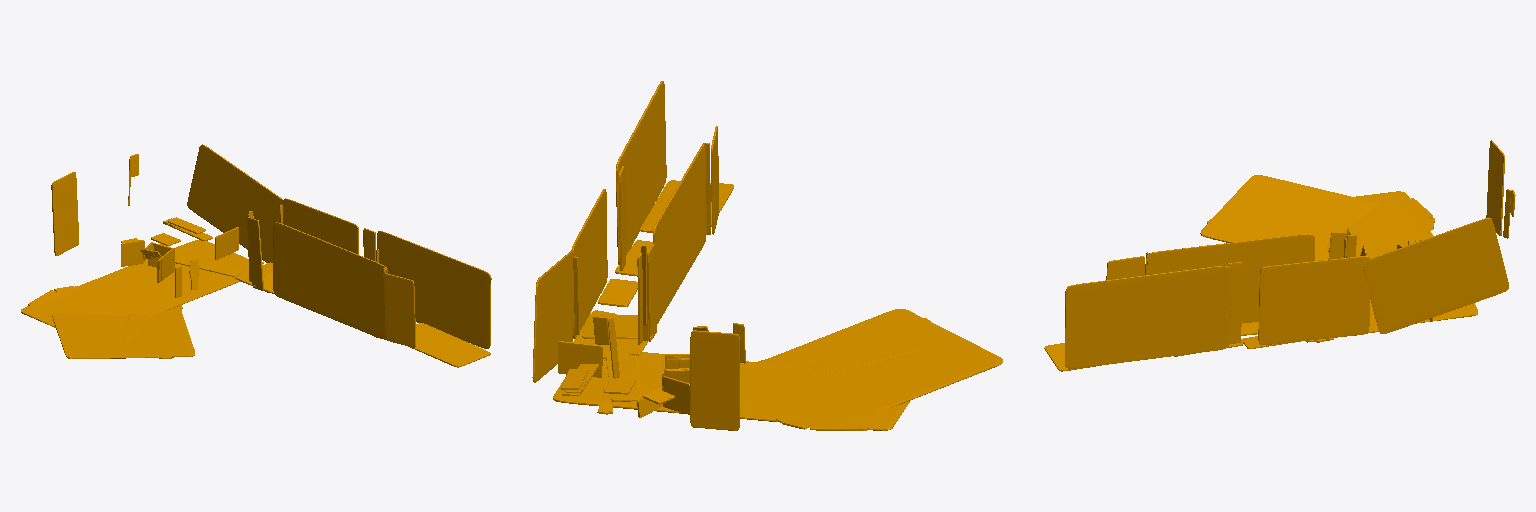
The robot description file, URDF, robot "scene":
<?xml version='1.0' encoding='utf-8'?>
<robot name="scene"><link name="scene_link"><visual><origin xyz="0.000000 0.000000 0.000000" rpy="0.000000 -0.000000 0.000000" /><geometry><mesh filename="part_000.obj" /></geometry></visual><collision><origin xyz="0.000000 0.000000 0.000000" rpy="0.000000 -0.000000 0.000000" /><geometry><mesh filename="part_000.obj" /></geometry></collision><visual><origin xyz="0.000000 0.000000 0.000000" rpy="0.000000 -0.000000 0.000000" /><geometry><mesh filename="part_001.obj" /></geometry></visual><collision><origin xyz="0.000000 0.000000 0.000000" rpy="0.000000 -0.000000 0.000000" /><geometry><mesh filename="part_001.obj" /></geometry></collision><visual><origin xyz="0.000000 0.000000 0.000000" rpy="0.000000 -0.000000 0.000000" /><geometry><mesh filename="part_002.obj" /></geometry></visual><collision><origin xyz="0.000000 0.000000 0.000000" rpy="0.000000 -0.000000 0.000000" /><geometry><mesh filename="part_002.obj" /></geometry></collision><visual><origin xyz="0.000000 0.000000 0.000000" rpy="0.000000 -0.000000 0.000000" /><geometry><mesh filename="part_003.obj" /></geometry></visual><collision><origin xyz="0.000000 0.000000 0.000000" rpy="0.000000 -0.000000 0.000000" /><geometry><mesh filename="part_003.obj" /></geometry></collision><visual><origin xyz="0.000000 0.000000 0.000000" rpy="0.000000 -0.000000 0.000000" /><geometry><mesh filename="part_004.obj" /></geometry></visual><collision><origin xyz="0.000000 0.000000 0.000000" rpy="0.000000 -0.000000 0.000000" /><geometry><mesh filename="part_004.obj" /></geometry></collision><visual><origin xyz="0.000000 0.000000 0.000000" rpy="0.000000 -0.000000 0.000000" /><geometry><mesh filename="part_005.obj" /></geometry></visual><collision><origin xyz="0.000000 0.000000 0.000000" rpy="0.000000 -0.000000 0.000000" /><geometry><mesh filename="part_005.obj" /></geometry></collision><visual><origin xyz="0.000000 0.000000 0.000000" rpy="0.000000 -0.000000 0.000000" /><geometry><mesh filename="part_006.obj" /></geometry></visual><collision><origin xyz="0.000000 0.000000 0.000000" rpy="0.000000 -0.000000 0.000000" /><geometry><mesh filename="part_006.obj" /></geometry></collision><visual><origin xyz="0.000000 0.000000 0.000000" rpy="0.000000 -0.000000 0.000000" /><geometry><mesh filename="part_007.obj" /></geometry></visual><collision><origin xyz="0.000000 0.000000 0.000000" rpy="0.000000 -0.000000 0.000000" /><geometry><mesh filename="part_007.obj" /></geometry></collision><visual><origin xyz="0.000000 0.000000 0.000000" rpy="0.000000 -0.000000 0.000000" /><geometry><mesh filename="part_008.obj" /></geometry></visual><collision><origin xyz="0.000000 0.000000 0.000000" rpy="0.000000 -0.000000 0.000000" /><geometry><mesh filename="part_008.obj" /></geometry></collision><visual><origin xyz="0.000000 0.000000 0.000000" rpy="0.000000 -0.000000 0.000000" /><geometry><mesh filename="part_009.obj" /></geometry></visual><collision><origin xyz="0.000000 0.000000 0.000000" rpy="0.000000 -0.000000 0.000000" /><geometry><mesh filename="part_009.obj" /></geometry></collision><visual><origin xyz="0.000000 0.000000 0.000000" rpy="0.000000 -0.000000 0.000000" /><geometry><mesh filename="part_010.obj" /></geometry></visual><collision><origin xyz="0.000000 0.000000 0.000000" rpy="0.000000 -0.000000 0.000000" /><geometry><mesh filename="part_010.obj" /></geometry></collision><visual><origin xyz="0.000000 0.000000 0.000000" rpy="0.000000 -0.000000 0.000000" /><geometry><mesh filename="part_011.obj" /></geometry></visual><collision><origin xyz="0.000000 0.000000 0.000000" rpy="0.000000 -0.000000 0.000000" /><geometry><mesh filename="part_011.obj" /></geometry></collision><visual><origin xyz="0.000000 0.000000 0.000000" rpy="0.000000 -0.000000 0.000000" /><geometry><mesh filename="part_012.obj" /></geometry></visual><collision><origin xyz="0.000000 0.000000 0.000000" rpy="0.000000 -0.000000 0.000000" /><geometry><mesh filename="part_012.obj" /></geometry></collision><visual><origin xyz="0.000000 0.000000 0.000000" rpy="0.000000 -0.000000 0.000000" /><geometry><mesh filename="part_013.obj" /></geometry></visual><collision><origin xyz="0.000000 0.000000 0.000000" rpy="0.000000 -0.000000 0.000000" /><geometry><mesh filename="part_013.obj" /></geometry></collision><visual><origin xyz="0.000000 0.000000 0.000000" rpy="0.000000 -0.000000 0.000000" /><geometry><mesh filename="part_014.obj" /></geometry></visual><collision><origin xyz="0.000000 0.000000 0.000000" rpy="0.000000 -0.000000 0.000000" /><geometry><mesh filename="part_014.obj" /></geometry></collision><visual><origin xyz="0.000000 0.000000 0.000000" rpy="0.000000 -0.000000 0.000000" /><geometry><mesh filename="part_015.obj" /></geometry></visual><collision><origin xyz="0.000000 0.000000 0.000000" rpy="0.000000 -0.000000 0.000000" /><geometry><mesh filename="part_015.obj" /></geometry></collision><visual><origin xyz="0.000000 0.000000 0.000000" rpy="0.000000 -0.000000 0.000000" /><geometry><mesh filename="part_016.obj" /></geometry></visual><collision><origin xyz="0.000000 0.000000 0.000000" rpy="0.000000 -0.000000 0.000000" /><geometry><mesh filename="part_016.obj" /></geometry></collision><visual><origin xyz="0.000000 0.000000 0.000000" rpy="0.000000 -0.000000 0.000000" /><geometry><mesh filename="part_017.obj" /></geometry></visual><collision><origin xyz="0.000000 0.000000 0.000000" rpy="0.000000 -0.000000 0.000000" /><geometry><mesh filename="part_017.obj" /></geometry></collision><visual><origin xyz="0.000000 0.000000 0.000000" rpy="0.000000 -0.000000 0.000000" /><geometry><mesh filename="part_018.obj" /></geometry></visual><collision><origin xyz="0.000000 0.000000 0.000000" rpy="0.000000 -0.000000 0.000000" /><geometry><mesh filename="part_018.obj" /></geometry></collision><visual><origin xyz="0.000000 0.000000 0.000000" rpy="0.000000 -0.000000 0.000000" /><geometry><mesh filename="part_019.obj" /></geometry></visual><collision><origin xyz="0.000000 0.000000 0.000000" rpy="0.000000 -0.000000 0.000000" /><geometry><mesh filename="part_019.obj" /></geometry></collision><visual><origin xyz="0.000000 0.000000 0.000000" rpy="0.000000 -0.000000 0.000000" /><geometry><mesh filename="part_020.obj" /></geometry></visual><collision><origin xyz="0.000000 0.000000 0.000000" rpy="0.000000 -0.000000 0.000000" /><geometry><mesh filename="part_020.obj" /></geometry></collision><visual><origin xyz="0.000000 0.000000 0.000000" rpy="0.000000 -0.000000 0.000000" /><geometry><mesh filename="part_021.obj" /></geometry></visual><collision><origin xyz="0.000000 0.000000 0.000000" rpy="0.000000 -0.000000 0.000000" /><geometry><mesh filename="part_021.obj" /></geometry></collision><visual><origin xyz="0.000000 0.000000 0.000000" rpy="0.000000 -0.000000 0.000000" /><geometry><mesh filename="part_022.obj" /></geometry></visual><collision><origin xyz="0.000000 0.000000 0.000000" rpy="0.000000 -0.000000 0.000000" /><geometry><mesh filename="part_022.obj" /></geometry></collision><visual><origin xyz="0.000000 0.000000 0.000000" rpy="0.000000 -0.000000 0.000000" /><geometry><mesh filename="part_023.obj" /></geometry></visual><collision><origin xyz="0.000000 0.000000 0.000000" rpy="0.000000 -0.000000 0.000000" /><geometry><mesh filename="part_023.obj" /></geometry></collision><visual><origin xyz="0.000000 0.000000 0.000000" rpy="0.000000 -0.000000 0.000000" /><geometry><mesh filename="part_024.obj" /></geometry></visual><collision><origin xyz="0.000000 0.000000 0.000000" rpy="0.000000 -0.000000 0.000000" /><geometry><mesh filename="part_024.obj" /></geometry></collision><visual><origin xyz="0.000000 0.000000 0.000000" rpy="0.000000 -0.000000 0.000000" /><geometry><mesh filename="part_025.obj" /></geometry></visual><collision><origin xyz="0.000000 0.000000 0.000000" rpy="0.000000 -0.000000 0.000000" /><geometry><mesh filename="part_025.obj" /></geometry></collision><visual><origin xyz="0.000000 0.000000 0.000000" rpy="0.000000 -0.000000 0.000000" /><geometry><mesh filename="part_026.obj" /></geometry></visual><collision><origin xyz="0.000000 0.000000 0.000000" rpy="0.000000 -0.000000 0.000000" /><geometry><mesh filename="part_026.obj" /></geometry></collision><visual><origin xyz="0.000000 0.000000 0.000000" rpy="0.000000 -0.000000 0.000000" /><geometry><mesh filename="part_027.obj" /></geometry></visual><collision><origin xyz="0.000000 0.000000 0.000000" rpy="0.000000 -0.000000 0.000000" /><geometry><mesh filename="part_027.obj" /></geometry></collision><visual><origin xyz="0.000000 0.000000 0.000000" rpy="0.000000 -0.000000 0.000000" /><geometry><mesh filename="part_028.obj" /></geometry></visual><collision><origin xyz="0.000000 0.000000 0.000000" rpy="0.000000 -0.000000 0.000000" /><geometry><mesh filename="part_028.obj" /></geometry></collision><visual><origin xyz="0.000000 0.000000 0.000000" rpy="0.000000 -0.000000 0.000000" /><geometry><mesh filename="part_029.obj" /></geometry></visual><collision><origin xyz="0.000000 0.000000 0.000000" rpy="0.000000 -0.000000 0.000000" /><geometry><mesh filename="part_029.obj" /></geometry></collision><visual><origin xyz="0.000000 0.000000 0.000000" rpy="0.000000 -0.000000 0.000000" /><geometry><mesh filename="part_030.obj" /></geometry></visual><collision><origin xyz="0.000000 0.000000 0.000000" rpy="0.000000 -0.000000 0.000000" /><geometry><mesh filename="part_030.obj" /></geometry></collision><visual><origin xyz="0.000000 0.000000 0.000000" rpy="0.000000 -0.000000 0.000000" /><geometry><mesh filename="part_031.obj" /></geometry></visual><collision><origin xyz="0.000000 0.000000 0.000000" rpy="0.000000 -0.000000 0.000000" /><geometry><mesh filename="part_031.obj" /></geometry></collision><visual><origin xyz="0.000000 0.000000 0.000000" rpy="0.000000 -0.000000 0.000000" /><geometry><mesh filename="part_032.obj" /></geometry></visual><collision><origin xyz="0.000000 0.000000 0.000000" rpy="0.000000 -0.000000 0.000000" /><geometry><mesh filename="part_032.obj" /></geometry></collision><visual><origin xyz="0.000000 0.000000 0.000000" rpy="0.000000 -0.000000 0.000000" /><geometry><mesh filename="part_033.obj" /></geometry></visual><collision><origin xyz="0.000000 0.000000 0.000000" rpy="0.000000 -0.000000 0.000000" /><geometry><mesh filename="part_033.obj" /></geometry></collision><visual><origin xyz="0.000000 0.000000 0.000000" rpy="0.000000 -0.000000 0.000000" /><geometry><mesh filename="part_034.obj" /></geometry></visual><collision><origin xyz="0.000000 0.000000 0.000000" rpy="0.000000 -0.000000 0.000000" /><geometry><mesh filename="part_034.obj" /></geometry></collision><visual><origin xyz="0.000000 0.000000 0.000000" rpy="0.000000 -0.000000 0.000000" /><geometry><mesh filename="part_035.obj" /></geometry></visual><collision><origin xyz="0.000000 0.000000 0.000000" rpy="0.000000 -0.000000 0.000000" /><geometry><mesh filename="part_035.obj" /></geometry></collision><visual><origin xyz="0.000000 0.000000 0.000000" rpy="0.000000 -0.000000 0.000000" /><geometry><mesh filename="part_036.obj" /></geometry></visual><collision><origin xyz="0.000000 0.000000 0.000000" rpy="0.000000 -0.000000 0.000000" /><geometry><mesh filename="part_036.obj" /></geometry></collision><visual><origin xyz="0.000000 0.000000 0.000000" rpy="0.000000 -0.000000 0.000000" /><geometry><mesh filename="part_037.obj" /></geometry></visual><collision><origin xyz="0.000000 0.000000 0.000000" rpy="0.000000 -0.000000 0.000000" /><geometry><mesh filename="part_037.obj" /></geometry></collision><visual><origin xyz="0.000000 0.000000 0.000000" rpy="0.000000 -0.000000 0.000000" /><geometry><mesh filename="part_038.obj" /></geometry></visual><collision><origin xyz="0.000000 0.000000 0.000000" rpy="0.000000 -0.000000 0.000000" /><geometry><mesh filename="part_038.obj" /></geometry></collision><visual><origin xyz="0.000000 0.000000 0.000000" rpy="0.000000 -0.000000 0.000000" /><geometry><mesh filename="part_039.obj" /></geometry></visual><collision><origin xyz="0.000000 0.000000 0.000000" rpy="0.000000 -0.000000 0.000000" /><geometry><mesh filename="part_039.obj" /></geometry></collision><visual><origin xyz="0.000000 0.000000 0.000000" rpy="0.000000 -0.000000 0.000000" /><geometry><mesh filename="part_040.obj" /></geometry></visual><collision><origin xyz="0.000000 0.000000 0.000000" rpy="0.000000 -0.000000 0.000000" /><geometry><mesh filename="part_040.obj" /></geometry></collision><visual><origin xyz="0.000000 0.000000 0.000000" rpy="0.000000 -0.000000 0.000000" /><geometry><mesh filename="part_041.obj" /></geometry></visual><collision><origin xyz="0.000000 0.000000 0.000000" rpy="0.000000 -0.000000 0.000000" /><geometry><mesh filename="part_041.obj" /></geometry></collision><visual><origin xyz="0.000000 0.000000 0.000000" rpy="0.000000 -0.000000 0.000000" /><geometry><mesh filename="part_042.obj" /></geometry></visual><collision><origin xyz="0.000000 0.000000 0.000000" rpy="0.000000 -0.000000 0.000000" /><geometry><mesh filename="part_042.obj" /></geometry></collision><visual><origin xyz="0.000000 0.000000 0.000000" rpy="0.000000 -0.000000 0.000000" /><geometry><mesh filename="part_043.obj" /></geometry></visual><collision><origin xyz="0.000000 0.000000 0.000000" rpy="0.000000 -0.000000 0.000000" /><geometry><mesh filename="part_043.obj" /></geometry></collision><visual><origin xyz="0.000000 0.000000 0.000000" rpy="0.000000 -0.000000 0.000000" /><geometry><mesh filename="part_044.obj" /></geometry></visual><collision><origin xyz="0.000000 0.000000 0.000000" rpy="0.000000 -0.000000 0.000000" /><geometry><mesh filename="part_044.obj" /></geometry></collision><visual><origin xyz="0.000000 0.000000 0.000000" rpy="0.000000 -0.000000 0.000000" /><geometry><mesh filename="part_045.obj" /></geometry></visual><collision><origin xyz="0.000000 0.000000 0.000000" rpy="0.000000 -0.000000 0.000000" /><geometry><mesh filename="part_045.obj" /></geometry></collision><visual><origin xyz="0.000000 0.000000 0.000000" rpy="0.000000 -0.000000 0.000000" /><geometry><mesh filename="part_046.obj" /></geometry></visual><collision><origin xyz="0.000000 0.000000 0.000000" rpy="0.000000 -0.000000 0.000000" /><geometry><mesh filename="part_046.obj" /></geometry></collision><visual><origin xyz="0.000000 0.000000 0.000000" rpy="0.000000 -0.000000 0.000000" /><geometry><mesh filename="part_047.obj" /></geometry></visual><collision><origin xyz="0.000000 0.000000 0.000000" rpy="0.000000 -0.000000 0.000000" /><geometry><mesh filename="part_047.obj" /></geometry></collision><visual><origin xyz="0.000000 0.000000 0.000000" rpy="0.000000 -0.000000 0.000000" /><geometry><mesh filename="part_048.obj" /></geometry></visual><collision><origin xyz="0.000000 0.000000 0.000000" rpy="0.000000 -0.000000 0.000000" /><geometry><mesh filename="part_048.obj" /></geometry></collision><visual><origin xyz="0.000000 0.000000 0.000000" rpy="0.000000 -0.000000 0.000000" /><geometry><mesh filename="part_049.obj" /></geometry></visual><collision><origin xyz="0.000000 0.000000 0.000000" rpy="0.000000 -0.000000 0.000000" /><geometry><mesh filename="part_049.obj" /></geometry></collision><visual><origin xyz="0.000000 0.000000 0.000000" rpy="0.000000 -0.000000 0.000000" /><geometry><mesh filename="part_050.obj" /></geometry></visual><collision><origin xyz="0.000000 0.000000 0.000000" rpy="0.000000 -0.000000 0.000000" /><geometry><mesh filename="part_050.obj" /></geometry></collision><visual><origin xyz="0.000000 0.000000 0.000000" rpy="0.000000 -0.000000 0.000000" /><geometry><mesh filename="part_051.obj" /></geometry></visual><collision><origin xyz="0.000000 0.000000 0.000000" rpy="0.000000 -0.000000 0.000000" /><geometry><mesh filename="part_051.obj" /></geometry></collision><visual><origin xyz="0.000000 0.000000 0.000000" rpy="0.000000 -0.000000 0.000000" /><geometry><mesh filename="part_052.obj" /></geometry></visual><collision><origin xyz="0.000000 0.000000 0.000000" rpy="0.000000 -0.000000 0.000000" /><geometry><mesh filename="part_052.obj" /></geometry></collision><visual><origin xyz="0.000000 0.000000 0.000000" rpy="0.000000 -0.000000 0.000000" /><geometry><mesh filename="part_053.obj" /></geometry></visual><collision><origin xyz="0.000000 0.000000 0.000000" rpy="0.000000 -0.000000 0.000000" /><geometry><mesh filename="part_053.obj" /></geometry></collision><visual><origin xyz="0.000000 0.000000 0.000000" rpy="0.000000 -0.000000 0.000000" /><geometry><mesh filename="part_054.obj" /></geometry></visual><collision><origin xyz="0.000000 0.000000 0.000000" rpy="0.000000 -0.000000 0.000000" /><geometry><mesh filename="part_054.obj" /></geometry></collision><visual><origin xyz="0.000000 0.000000 0.000000" rpy="0.000000 -0.000000 0.000000" /><geometry><mesh filename="part_055.obj" /></geometry></visual><collision><origin xyz="0.000000 0.000000 0.000000" rpy="0.000000 -0.000000 0.000000" /><geometry><mesh filename="part_055.obj" /></geometry></collision><visual><origin xyz="0.000000 0.000000 0.000000" rpy="0.000000 -0.000000 0.000000" /><geometry><mesh filename="part_056.obj" /></geometry></visual><collision><origin xyz="0.000000 0.000000 0.000000" rpy="0.000000 -0.000000 0.000000" /><geometry><mesh filename="part_056.obj" /></geometry></collision></link></robot>

--- Render facts (derived) ---
The picture shows the robot from 3 angles, left to right: view 1: azimuth 30°, elevation 25°; view 2: azimuth 150°, elevation 25°; view 3: azimuth 270°, elevation 25°; orthographic projection.
Robot: scene — 1 links, 0 joints (none); root link scene_link; default pose: all joints at 0.
Links seen in each view (by area): view 1: scene_link; view 2: scene_link; view 3: scene_link.
Link boxes in pixels (x1,y1,x2,y2): scene_link: (21, 144, 491, 367); scene_link: (532, 81, 1002, 430); scene_link: (1044, 140, 1515, 371).
Size in the robot's own frame: 9.4 by 10.24 by 2.48 metres.
57 mesh visuals loaded from 57 distinct referenced files (57 OBJ).